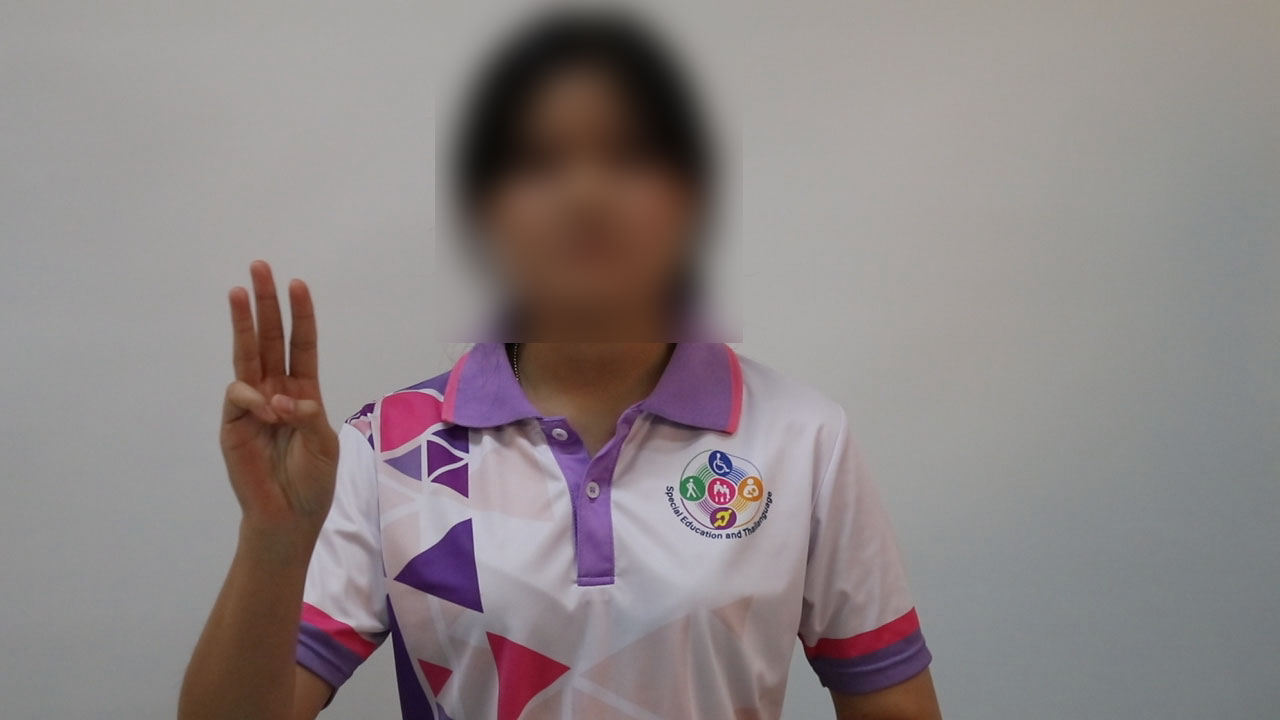wor: (211, 249, 345, 549)
